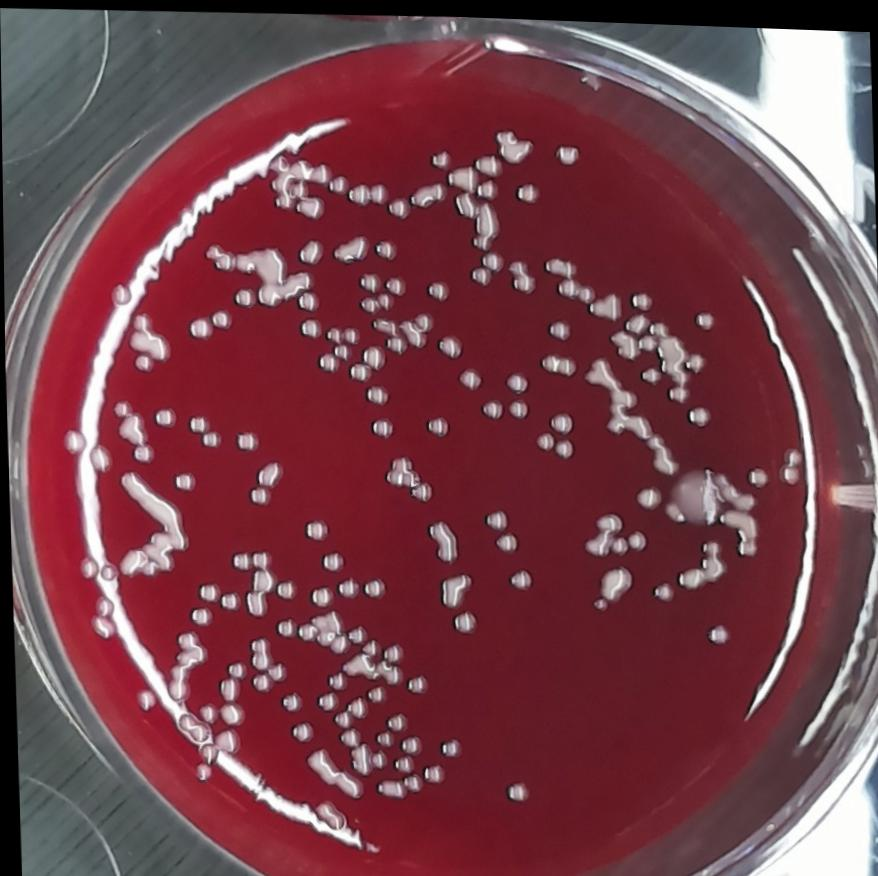staphylo-: (580, 352, 679, 473), (203, 237, 314, 304), (114, 466, 190, 550), (114, 527, 191, 579), (162, 627, 209, 700), (302, 741, 363, 797), (112, 396, 154, 465), (577, 504, 629, 557), (295, 606, 347, 655), (247, 632, 285, 692), (589, 557, 635, 605), (422, 510, 460, 563), (494, 119, 538, 162), (239, 564, 275, 616), (328, 227, 372, 265), (434, 566, 474, 607), (381, 448, 422, 487), (469, 198, 501, 247), (583, 284, 625, 321), (405, 173, 450, 207), (346, 737, 387, 774), (469, 246, 507, 283), (505, 250, 538, 292), (442, 158, 481, 193), (328, 692, 367, 725), (535, 345, 578, 374), (343, 178, 389, 205), (294, 231, 328, 265), (554, 272, 596, 299), (174, 709, 210, 740), (250, 454, 284, 485), (292, 191, 328, 220), (447, 604, 479, 635), (512, 174, 543, 204), (499, 772, 531, 801), (682, 396, 713, 425), (210, 725, 239, 755), (550, 137, 583, 163), (633, 478, 662, 507), (491, 523, 521, 551), (85, 440, 110, 473), (544, 250, 578, 274), (185, 312, 213, 341), (300, 513, 330, 540), (215, 699, 245, 726), (505, 561, 536, 587), (372, 773, 404, 798), (473, 147, 505, 172), (385, 189, 413, 217), (692, 300, 718, 329), (453, 187, 480, 214), (546, 311, 573, 338), (377, 637, 405, 663), (548, 403, 574, 431), (472, 173, 501, 198), (305, 581, 332, 607), (150, 403, 178, 428), (360, 572, 387, 597), (318, 545, 345, 570), (400, 668, 428, 692), (436, 729, 462, 754), (270, 613, 296, 638), (332, 573, 359, 597), (209, 302, 233, 329), (552, 431, 576, 458), (428, 143, 453, 168), (419, 758, 443, 784), (278, 687, 304, 711), (313, 686, 340, 709), (287, 717, 314, 740), (531, 424, 556, 448), (184, 411, 210, 434), (232, 284, 258, 307), (399, 767, 422, 792), (315, 347, 340, 370), (361, 679, 387, 701), (335, 724, 361, 746), (629, 283, 655, 305), (408, 476, 432, 499), (344, 620, 369, 642), (246, 483, 272, 504), (383, 707, 407, 729), (397, 730, 421, 752), (299, 314, 322, 336), (331, 338, 353, 361), (388, 751, 412, 772), (297, 287, 319, 309), (324, 667, 348, 687), (199, 427, 223, 447), (373, 725, 394, 745), (323, 322, 343, 342), (342, 322, 360, 340)
